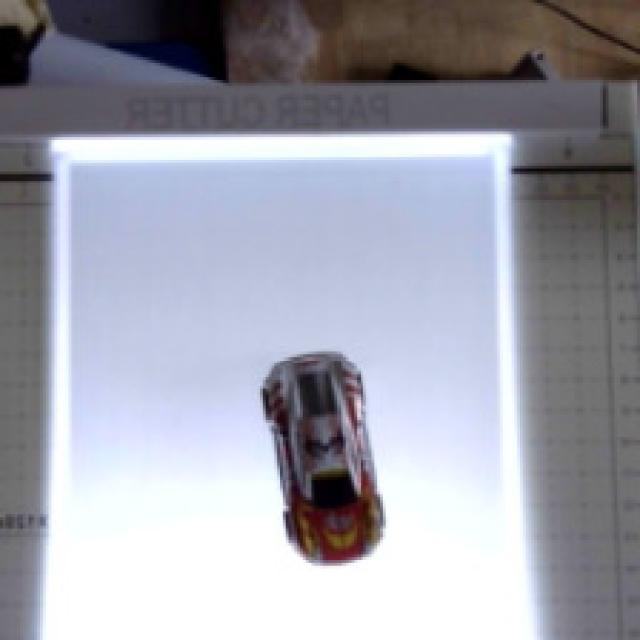Red Car: (140, 306, 431, 612)
